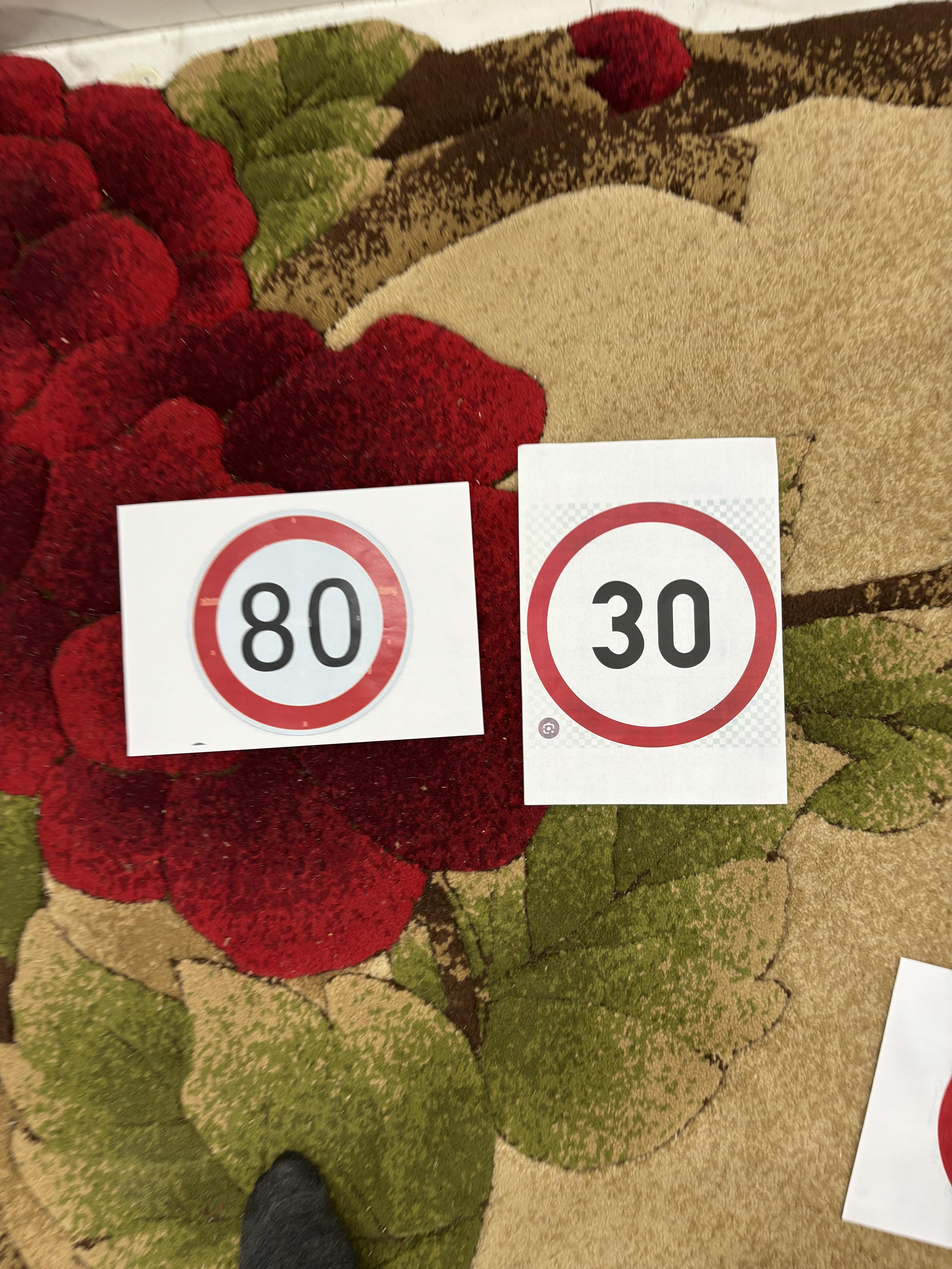30-speed: (518, 494, 786, 757)
80-Speed: (187, 503, 408, 737)
